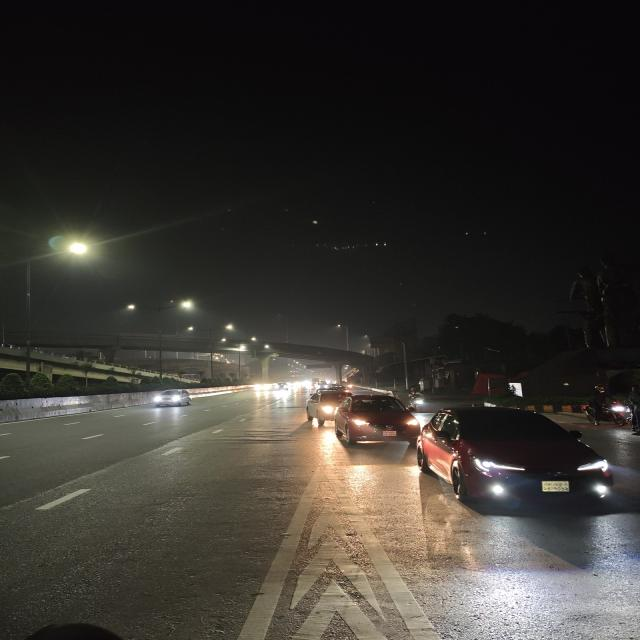car: (413, 403, 618, 517), (329, 392, 420, 450), (300, 387, 346, 427), (147, 386, 199, 410)
motorcycle: (405, 388, 428, 411)
